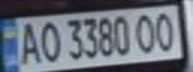0: (112, 12, 133, 56)
3: (63, 16, 84, 61), (81, 15, 100, 60)
8: (97, 14, 118, 58)
A: (15, 19, 42, 65)
O: (36, 18, 63, 64), (151, 9, 178, 53), (133, 10, 160, 54)
